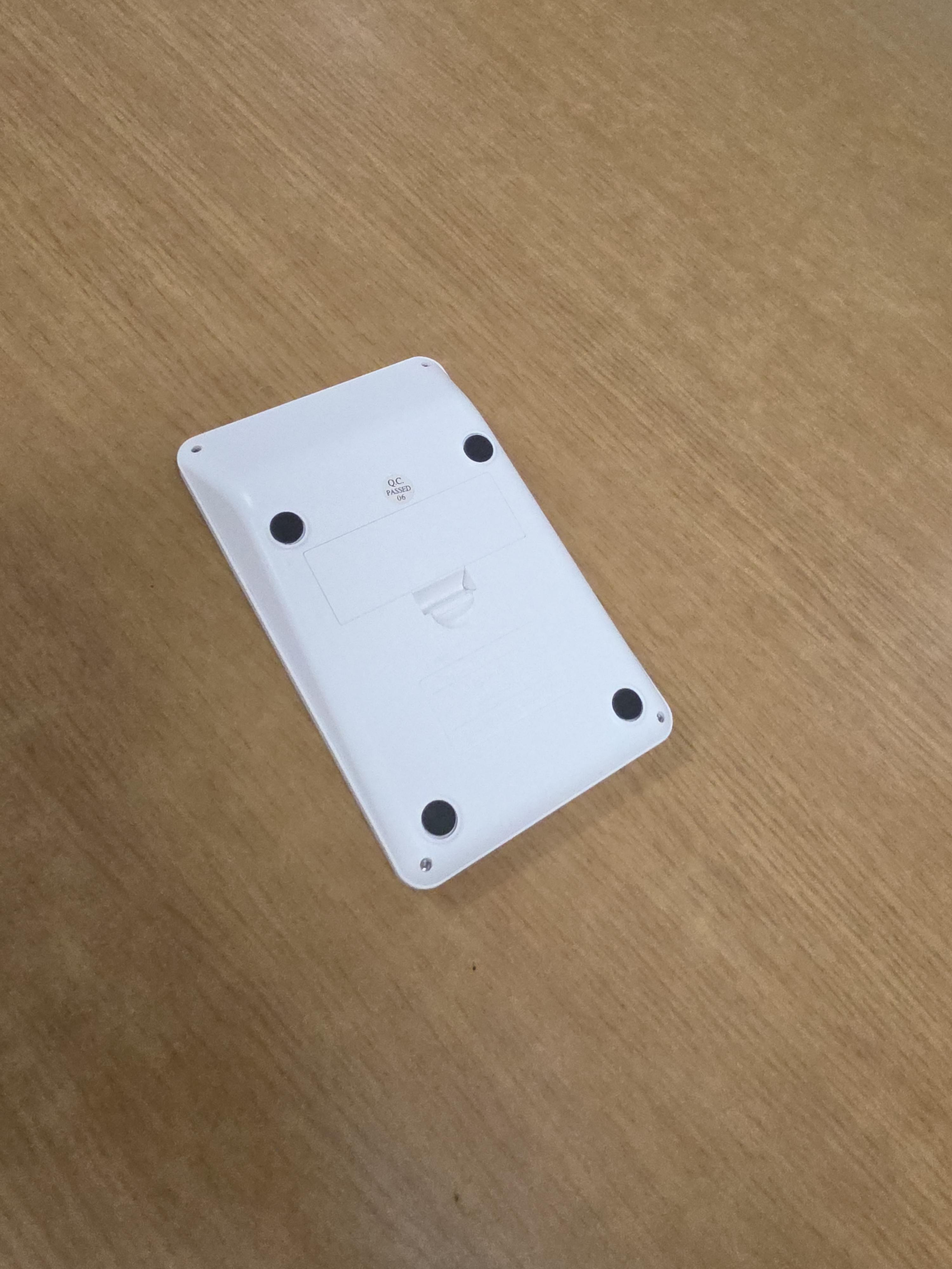calculator: (175, 356, 674, 892)
